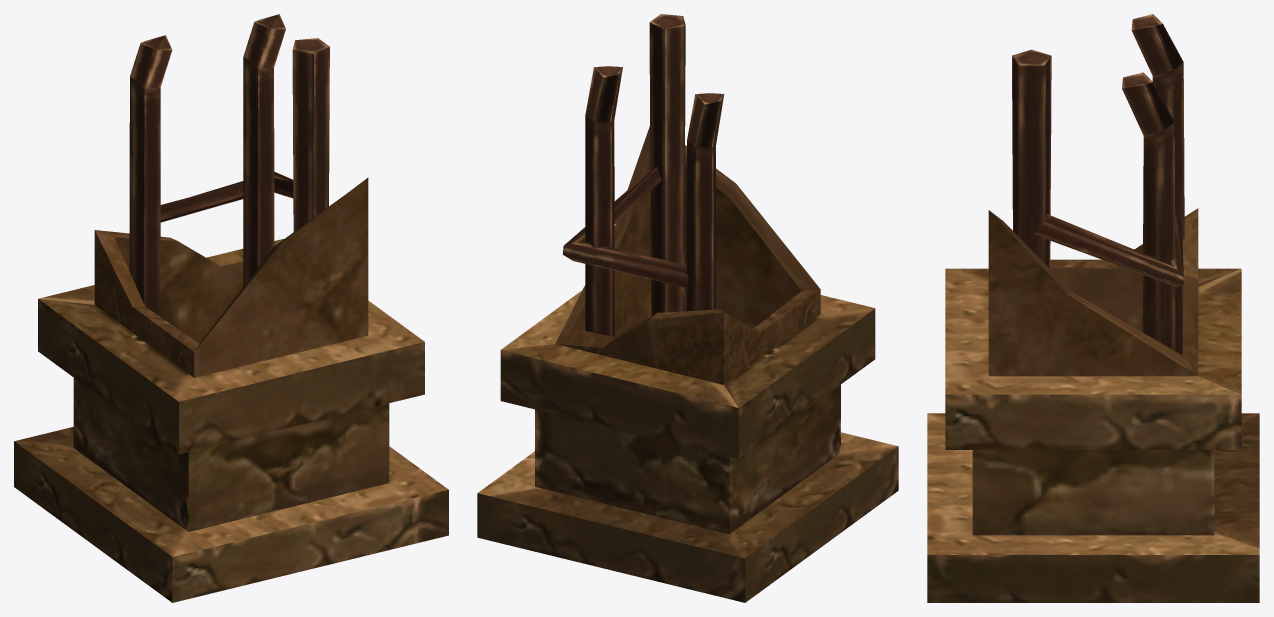
File: Scene_shizhu_005.FBX
The picture shows the model from 3 angles, left to right: view 1: azimuth 30°, elevation 25°; view 2: azimuth 150°, elevation 25°; view 3: azimuth 270°, elevation 25°; orthographic projection. The views are drawn at different scales.
Parts seen in each view (by area): view 1: Scene_shizhu_005; view 2: Scene_shizhu_005; view 3: Scene_shizhu_005.
Boxes of the visible parts, x1=… form: Scene_shizhu_005: x1=14, y1=14, x2=448, y2=602; Scene_shizhu_005: x1=477, y1=14, x2=898, y2=602; Scene_shizhu_005: x1=927, y1=14, x2=1259, y2=602.
Size of the model in its own units: 2.38 by 3.91 by 2.36.
